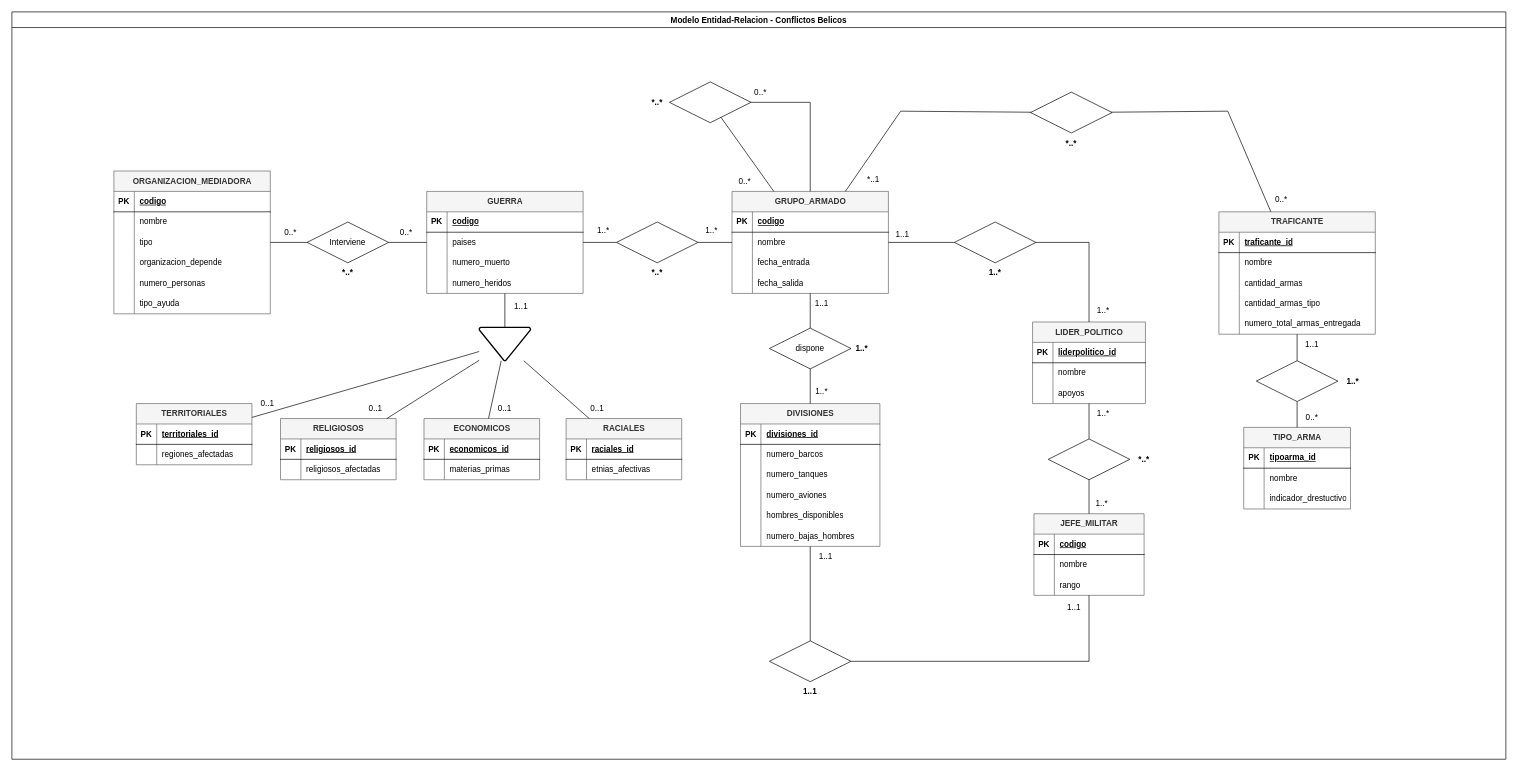
Image size: 1518x771. Some labels were removed from this diagram. The shapes that lost their labels are listed below. From the top down, each one's centre as x and y in pixels, then its label:
point (710, 102): atacan
point (1071, 112): suministran
point (657, 242): participan
point (995, 242): lidera
point (1297, 381): entrega
point (1089, 459): obedece
point (810, 661): dirige
